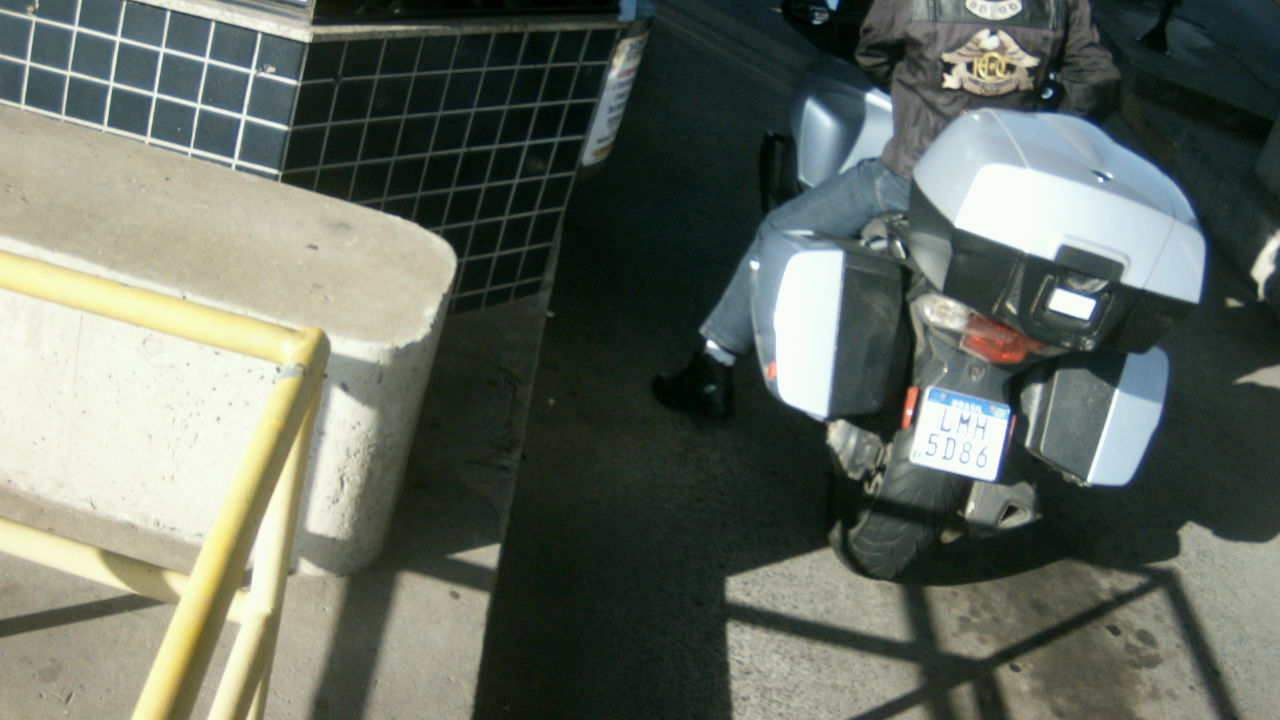placa: (908, 386, 1012, 482)
